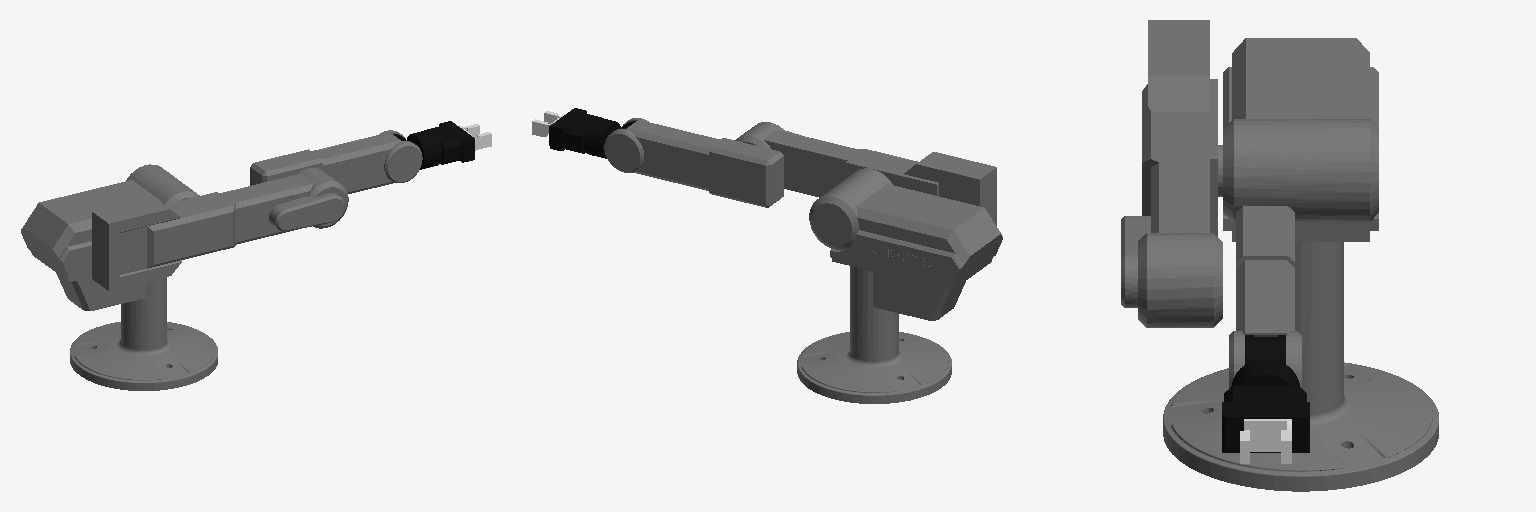
URDF robot description (scorbot):
<?xml version="1.0" ?>
<!-- =================================================================================== -->
<!-- |    This document was autogenerated by xacro from scorbot.urdf.xacro             | -->
<!-- |    EDITING THIS FILE BY HAND IS NOT RECOMMENDED                                 | -->
<!-- =================================================================================== -->
<robot name="scorbot" xmlns:xacro="http://ros.org/wiki/xacro">
  <!-- URDF Materials -->
  <material name="Grey1">
    <color rgba="0.1 0.1 0.1 1"/>
  </material>
  <material name="Grey2">
    <color rgba="0.2 0.2 0.2 1"/>
  </material>
  <material name="Grey3">
    <color rgba="0.3 0.3 0.3 1"/>
  </material>
  <material name="Body">
    <color rgba="0.85 0.85 0.85 1"/>
  </material>
  <material name="Head">
    <color rgba="0.75 0.75 0.75 1"/>
  </material>
  <!-- Gazebo macros -->
  <!-- ROS Control -->
  <!-- For Effort controllers -->
  <!-- For Position controllers -->
  <!-- No gravity links -->
  <!-- Normal links -->
  <!-- Normal links DAE file -->
  <!-- Wheel links -->
  <!-- Gripper links -->
  <!-- Depth camera plugin -->
  <!-- Base wheels plugin -->
  <!-- Laser sensor plugin -->
  <!-- Gazebo elements -->
  <!-- Gazebo Links material -->
  <gazebo reference="base">
    <mu1>0.2</mu1>
    <mu2>0.2</mu2>
  </gazebo>
  <gazebo reference="body">
    <mu1>0.2</mu1>
    <mu2>0.2</mu2>
  </gazebo>
  <gazebo reference="upper_arm">
    <mu1>0.2</mu1>
    <mu2>0.2</mu2>
  </gazebo>
  <gazebo reference="forearm">
    <mu1>0.2</mu1>
    <mu2>0.2</mu2>
  </gazebo>
  <gazebo reference="flange">
    <mu1>0.2</mu1>
    <mu2>0.2</mu2>
  </gazebo>
  <gazebo reference="right_finger">
    <mu1>0.2</mu1>
    <mu2>0.2</mu2>
  </gazebo>
  <gazebo reference="left_finger">
    <mu1>0.2</mu1>
    <mu2>0.2</mu2>
  </gazebo>
  <!-- Transmissions -->
  <gazebo>
    <plugin filename="libgazebo_ros_control.so" name="ros_control">
      <robotNamespace>scorbot/</robotNamespace>
    </plugin>
  </gazebo>
  <transmission name="base_transmission">
    <type>transmission_interface/SimpleTransmission</type>
    <joint name="base">
      <hardwareInterface>PositionJointInterface</hardwareInterface>
    </joint>
    <actuator name="base_motor">
      <hardwareInterface>PositionJointInterface</hardwareInterface>
      <mechanicalReduction>1</mechanicalReduction>
    </actuator>
  </transmission>
  <transmission name="shoulder_transmission">
    <type>transmission_interface/SimpleTransmission</type>
    <joint name="shoulder">
      <hardwareInterface>PositionJointInterface</hardwareInterface>
    </joint>
    <actuator name="shoulder_motor">
      <hardwareInterface>PositionJointInterface</hardwareInterface>
      <mechanicalReduction>1</mechanicalReduction>
    </actuator>
  </transmission>
  <transmission name="elbow_transmission">
    <type>transmission_interface/SimpleTransmission</type>
    <joint name="elbow">
      <hardwareInterface>PositionJointInterface</hardwareInterface>
    </joint>
    <actuator name="elbow_motor">
      <hardwareInterface>PositionJointInterface</hardwareInterface>
      <mechanicalReduction>1</mechanicalReduction>
    </actuator>
  </transmission>
  <transmission name="pitch_transmission">
    <type>transmission_interface/SimpleTransmission</type>
    <joint name="pitch">
      <hardwareInterface>PositionJointInterface</hardwareInterface>
    </joint>
    <actuator name="pitch_motor">
      <hardwareInterface>PositionJointInterface</hardwareInterface>
      <mechanicalReduction>1</mechanicalReduction>
    </actuator>
  </transmission>
  <transmission name="roll_transmission">
    <type>transmission_interface/SimpleTransmission</type>
    <joint name="roll">
      <hardwareInterface>PositionJointInterface</hardwareInterface>
    </joint>
    <actuator name="roll_motor">
      <hardwareInterface>PositionJointInterface</hardwareInterface>
      <mechanicalReduction>1</mechanicalReduction>
    </actuator>
  </transmission>
  <transmission name="gripper_finger_left_joint_transmission">
    <type>transmission_interface/SimpleTransmission</type>
    <joint name="gripper_finger_left_joint">
      <hardwareInterface>EffortJointInterface</hardwareInterface>
    </joint>
    <actuator name="gripper_finger_left_joint_motor">
      <hardwareInterface>EffortJointInterface</hardwareInterface>
      <mechanicalReduction>1</mechanicalReduction>
    </actuator>
  </transmission>
  <transmission name="gripper_finger_right_joint_transmission">
    <type>transmission_interface/SimpleTransmission</type>
    <joint name="gripper_finger_right_joint">
      <hardwareInterface>EffortJointInterface</hardwareInterface>
    </joint>
    <actuator name="gripper_finger_right_joint_motor">
      <hardwareInterface>EffortJointInterface</hardwareInterface>
      <mechanicalReduction>1</mechanicalReduction>
    </actuator>
  </transmission>
  <!-- Constants -->
  <!-- Joint limits in radians -->
  <!-- Gripper joint limits -->
  <!-- Attach to the world frame -->
  <link name="world"/>
  <joint name="fixed" type="fixed">
    <parent link="world"/>
    <child link="base"/>
  </joint>
  <link name="base">
    <inertial>
      <origin rpy="0 0 0" xyz="-5.6661E-09 -4.8129E-10 0.049865"/>
      <mass value="3.5594"/>
      <inertia ixx="0.025688" ixy="-2.4368E-10" ixz="1.2537E-10" iyy="0.025688" iyz="-3.2961E-12" izz="0.028476"/>
    </inertial>
    <visual>
      <origin rpy="1.5707963268 0 0" xyz="0 0 0"/>
      <geometry>
        <mesh filename="package://scorbot_description_effort/meshes/base.dae"/>
      </geometry>
      <material name="">
        <color rgba="0.5 0.5 0.5 1"/>
      </material>
    </visual>
    <collision>
      <origin rpy="0 0 0" xyz="0 0 0.0225"/>
      <geometry>
        <cylinder length="0.045" radius="0.16"/>
      </geometry>
    </collision>
    <collision>
      <origin rpy="0 0 0" xyz="0 0 0.085"/>
      <geometry>
        <cylinder length="0.170" radius="0.05"/>
      </geometry>
    </collision>
  </link>
  <link name="body">
    <inertial>
      <origin rpy="0 0 0" xyz="-0.072272 -0.0016694 0.145"/>
      <mass value="9.7868"/>
      <inertia ixx="0.05511" ixy="-0.001985" ixz="0.0061208" iyy="0.12037" iyz="-0.00070806" izz="0.10965"/>
    </inertial>
    <visual>
      <origin rpy="-1.5707963268 0 0" xyz="0 0 0"/>
      <geometry>
        <mesh filename="package://scorbot_description_effort/meshes/body.dae"/>
      </geometry>
      <material name="">
        <color rgba="0.5 0.5 0.5 1"/>
      </material>
    </visual>
    <collision>
      <origin rpy="0 0 0" xyz="-0.08 0 0.125"/>
      <geometry>
        <box size="0.380 0.18 0.25"/>
      </geometry>
    </collision>
  </link>
  <joint name="base" type="revolute">
    <origin rpy="0 0 0" xyz="0 0 0.17"/>
    <parent link="base"/>
    <child link="body"/>
    <axis xyz="0 0 1"/>
    <limit effort="30" lower="-2.18166156499" upper="2.18166156499" velocity="1.0"/>
  </joint>
  <link name="upper_arm">
    <inertial>
      <origin rpy="0 0 0" xyz="0.040893 -0.046847 -6.337E-05"/>
      <mass value="5.4535"/>
      <inertia ixx="0.010363" ixy="-0.0023486" ixz="3.9183E-05" iyy="0.1835" iyz="-4.8475E-07" izz="0.18016"/>
    </inertial>
    <visual>
      <origin rpy="-1.5707963268 0 0" xyz="0 0 0"/>
      <geometry>
        <mesh filename="package://scorbot_description_effort/meshes/upper_arm.dae"/>
      </geometry>
      <material name="">
        <color rgba="0.5 0.5 0.5 1"/>
      </material>
    </visual>
    <collision>
      <origin rpy="0 0 0" xyz="0.06 -0.06 0"/>
      <geometry>
        <box size="0.60 0.12 0.16"/>
      </geometry>
    </collision>
  </link>
  <joint name="shoulder" type="revolute">
    <origin rpy="0 0 0" xyz="0.05 -0.096 0.1885"/>
    <parent link="body"/>
    <child link="upper_arm"/>
    <axis xyz="0 1 0"/>
    <limit effort="30" lower="-1.48352986419" upper="1.48352986419" velocity="1.0"/>
  </joint>
  <link name="forearm">
    <inertial>
      <origin rpy="0 0 0" xyz="0.073997 0.038242 4.5577E-11"/>
      <mass value="2.194"/>
      <inertia ixx="0.0025816" ixy="5.645E-05" ixz="1.195E-11" iyy="0.024687" iyz="4.1344E-12" izz="0.02443"/>
    </inertial>
    <visual>
      <origin rpy="1.5707963268 0 0" xyz="0 0 0"/>
      <geometry>
        <mesh filename="package://scorbot_description_effort/meshes/forearm.dae"/>
      </geometry>
      <material name="">
        <color rgba="0.5 0.5 0.5 1"/>
      </material>
    </visual>
    <collision>
      <origin rpy="0 0 0" xyz="0.05 0.035 0"/>
      <geometry>
        <box size="0.3 0.095 0.12"/>
      </geometry>
    </collision>
  </link>
  <joint name="elbow" type="revolute">
    <origin rpy="0 0 0" xyz="0.3 0.021 0"/>
    <parent link="upper_arm"/>
    <child link="forearm"/>
    <axis xyz="0 -1 0"/>
    <limit effort="30" lower="-1.96349540849" upper="1.96349540849" velocity="1.0"/>
  </joint>
  <link name="flange">
    <inertial>
      <origin rpy="0 0 0" xyz="0.0069957 -0.02 5.5511E-17"/>
      <mass value="0.24441"/>
      <inertia ixx="0.00014819" ixy="1.6491E-20" ixz="-1.653E-19" iyy="0.00028003" iyz="5.3591E-21" izz="0.00021086"/>
    </inertial>
    <visual>
      <origin rpy="-1.5707963268 0 0" xyz="0 0 0"/>
      <geometry>
        <mesh filename="package://scorbot_description_effort/meshes/flange.dae"/>
      </geometry>
      <material name="">
        <color rgba="0.1 0.1 0.1 1"/>
      </material>
    </visual>
    <collision>
      <origin rpy="-1.5707963268 0 0" xyz="0 -0.024 0"/>
      <geometry>
        <cylinder length="0.105" radius="0.05"/>
      </geometry>
    </collision>
  </link>
  <joint name="pitch" type="revolute">
    <origin rpy="0 0 0" xyz="0.25 0.058 0"/>
    <parent link="forearm"/>
    <child link="flange"/>
    <axis xyz="0 -1 0"/>
    <limit effort="30" lower="-1.57079632679" upper="1.57079632679" velocity="1.0"/>
  </joint>
  <joint name="roll" type="revolute">
    <origin rpy="0 0 0" xyz="0.054 -0.024 0"/>
    <parent link="flange"/>
    <child link="gripper_base_link"/>
    <axis xyz="1 0 0"/>
    <limit effort="30" lower="-3.14159265358" upper="3.14159265358" velocity="1.0"/>
  </joint>
  <!-- Gripper -->
  <link name="gripper_base_link">
    <inertial>
      <origin rpy="0 0 0" xyz="0.0593648790750631 0 0"/>
      <mass value="1.59125921054032"/>
      <inertia ixx="0.00147991252859225" ixy="1.34230402513126E-19" ixz="1.07467005492524E-19" iyy="0.00232303179944379" iyz="-4.07594317291221E-20" izz="0.00291367454744379"/>
    </inertial>
    <visual>
      <origin rpy="-1.5707963268 0 0" xyz="0 0 0"/>
      <geometry>
        <mesh filename="package://scorbot_description_effort/meshes/gripper_base.dae"/>
      </geometry>
      <material name="">
        <color rgba="0.1 0.1 0.1 1"/>
      </material>
    </visual>
    <collision>
      <origin rpy="0 0 0" xyz="0.08 0.0 0.0"/>
      <geometry>
        <box size="0.078 0.110 0.055"/>
      </geometry>
    </collision>
    <collision>
      <origin rpy="0 -1.5707963268 0" xyz="0.019 0 0"/>
      <geometry>
        <cylinder length="0.044" radius="0.05"/>
      </geometry>
    </collision>
  </link>
  <link name="gripper_finger_left">
    <inertial>
      <origin rpy="0 0 0" xyz="0.021935 0.017436 0.0038599"/>
      <mass value="0.1"/>
      <inertia ixx="1.4677E-05" ixy="-7.1238E-06" ixz="3.6153E-06" iyy="1.82E-05" iyz="2.343E-06" izz="2.4607E-05"/>
    </inertial>
    <visual>
      <origin rpy="-1.5707963268 0 0" xyz="0 0 0"/>
      <geometry>
        <mesh filename="package://scorbot_description_effort/meshes/gripper_finger.dae"/>
      </geometry>
      <material name="">
        <color rgba="0.9 0.9 0.9 1"/>
      </material>
    </visual>
    <collision>
      <origin rpy="-1.5707963268 0 0" xyz="0 0 0"/>
      <geometry>
        <mesh filename="package://scorbot_description_effort/meshes/gripper_finger.dae"/>
      </geometry>
    </collision>
  </link>
  <joint name="gripper_finger_left_joint" type="prismatic">
    <origin rpy="0 0 0" xyz="0.118 0.0026 0.010"/>
    <parent link="gripper_base_link"/>
    <child link="gripper_finger_left"/>
    <axis xyz="0 1 0"/>
    <limit effort="30" lower="-0.018" upper="0.016" velocity="1.0"/>
  </joint>
  <link name="gripper_finger_right">
    <inertial>
      <origin rpy="0 0 0" xyz="0.021935 0.014436 -0.0061401"/>
      <mass value="0.1"/>
      <inertia ixx="1.4677E-05" ixy="-7.1238E-06" ixz="3.6153E-06" iyy="1.82E-05" iyz="2.343E-06" izz="2.4607E-05"/>
    </inertial>
    <visual>
      <origin rpy="1.5707963268 0 0" xyz="0 0 0"/>
      <geometry>
        <mesh filename="package://scorbot_description_effort/meshes/gripper_finger.dae"/>
      </geometry>
      <material name="">
        <color rgba="0.9 0.9 0.9 1"/>
      </material>
    </visual>
    <collision>
      <origin rpy="1.5707963268 0 0" xyz="0 0 0"/>
      <geometry>
        <mesh filename="package://scorbot_description_effort/meshes/gripper_finger.dae"/>
      </geometry>
    </collision>
  </link>
  <joint name="gripper_finger_right_joint" type="prismatic">
    <origin rpy="0 0 0" xyz="0.118 -0.0026 -0.010"/>
    <parent link="gripper_base_link"/>
    <child link="gripper_finger_right"/>
    <axis xyz="0 -1 0"/>
    <limit effort="30" lower="-0.018" upper="0.016" velocity="1.0"/>
  </joint>
</robot>

--- Render facts (derived) ---
3 views of the same robot in one strip: view 1: azimuth 30°, elevation 25°; view 2: azimuth 150°, elevation 25°; view 3: azimuth 270°, elevation 25° (orthographic).
Model scorbot with 9 links and 8 joints (5 revolute, 2 prismatic, 1 fixed), rooted at world, posed all joints at 0.
Links seen in each view (by area): view 1: upper_arm, base, body, forearm, gripper_base_link; view 2: body, base, forearm, upper_arm, gripper_base_link; view 3: body, upper_arm, base, forearm, gripper_base_link, gripper_finger_left, flange, gripper_finger_right.
Boxes of the visible links, bbox=[...] form: upper_arm: bbox=[92, 168, 348, 290]; base: bbox=[70, 291, 217, 390]; body: bbox=[21, 164, 199, 310]; forearm: bbox=[250, 130, 422, 193]; gripper_base_link: bbox=[414, 121, 474, 168]; body: bbox=[809, 168, 1002, 320]; base: bbox=[797, 296, 951, 403]; forearm: bbox=[604, 118, 783, 207]; upper_arm: bbox=[735, 122, 996, 225]; gripper_base_link: bbox=[549, 108, 611, 157]; body: bbox=[1218, 38, 1378, 317]; upper_arm: bbox=[1121, 20, 1222, 327]; base: bbox=[1163, 303, 1438, 491]; forearm: bbox=[1229, 206, 1301, 388]; gripper_base_link: bbox=[1222, 360, 1309, 452]; gripper_finger_left: bbox=[1244, 419, 1291, 463]; flange: bbox=[1231, 335, 1299, 386]; gripper_finger_right: bbox=[1240, 430, 1280, 463].
Bounding box of the posed robot: 1.09 × 0.369 × 0.4385 m (x, y, z).
8 mesh visuals loaded from 7 distinct referenced files (7 Collada DAE).